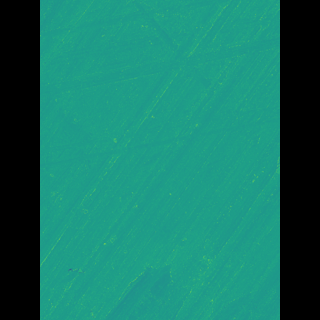Loch: (67, 30, 250, 111), (68, 0, 220, 93), (69, 115, 250, 176)
